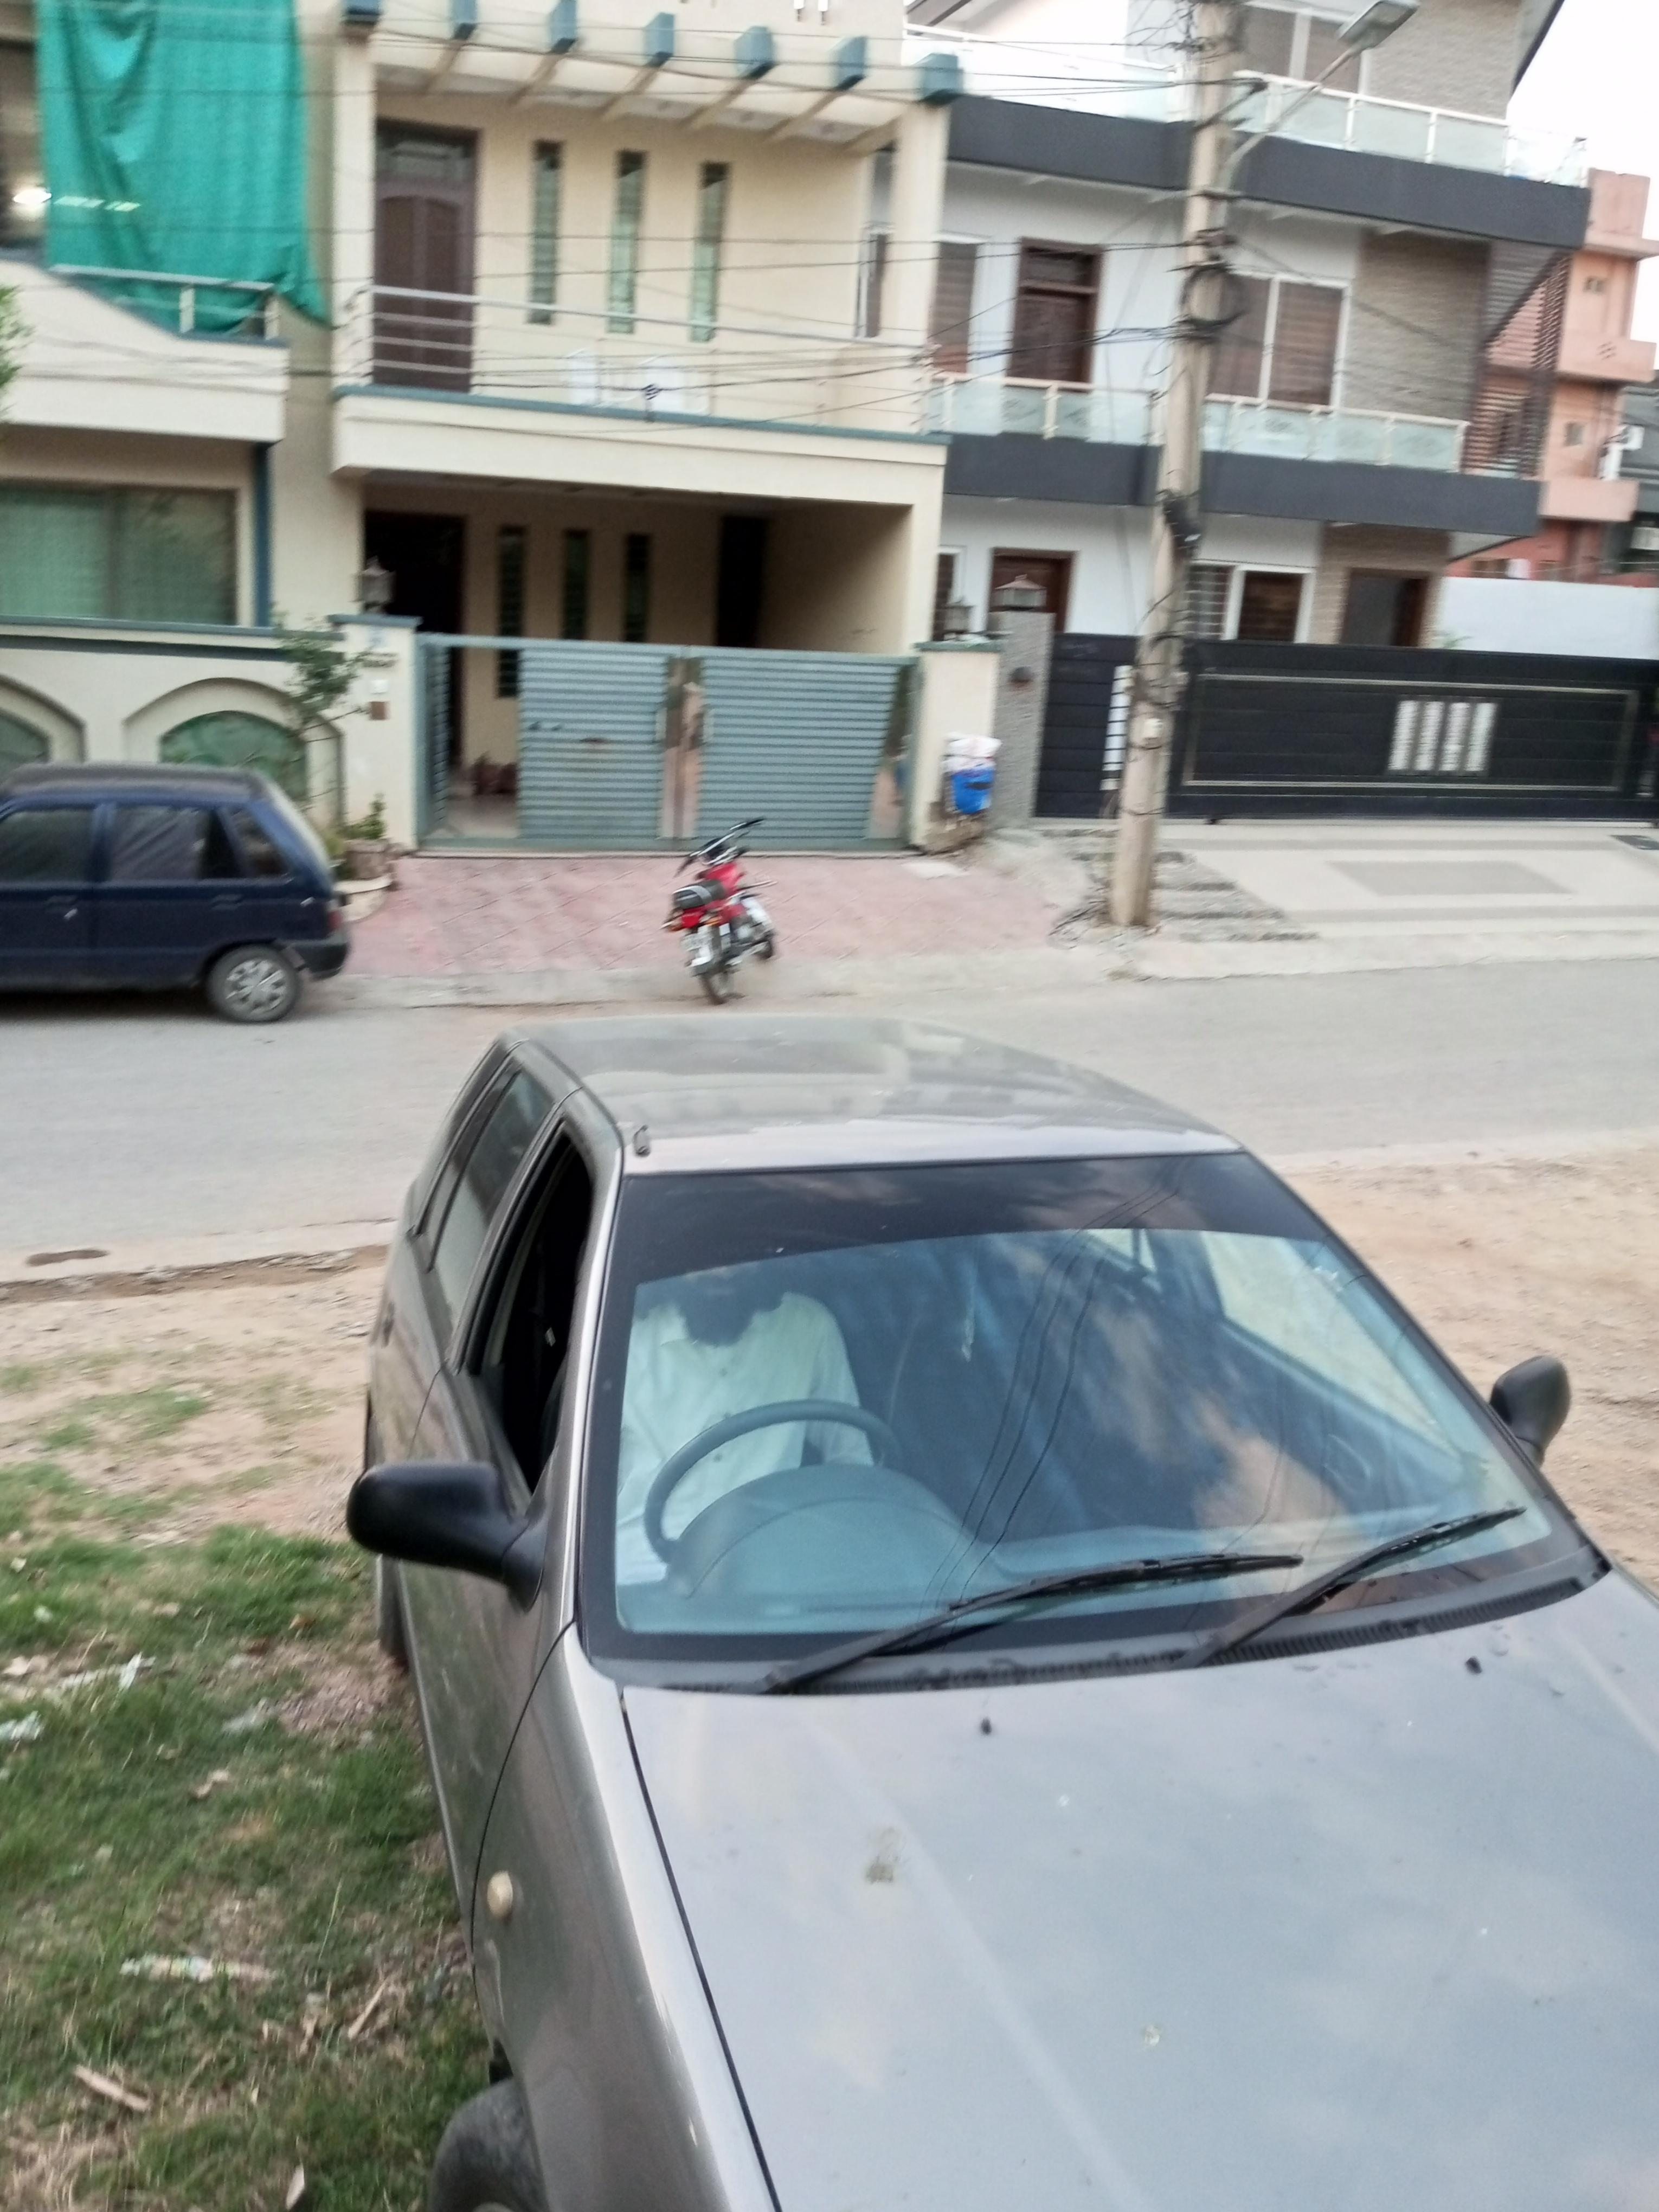windshield: (582, 1134, 1628, 1696)
